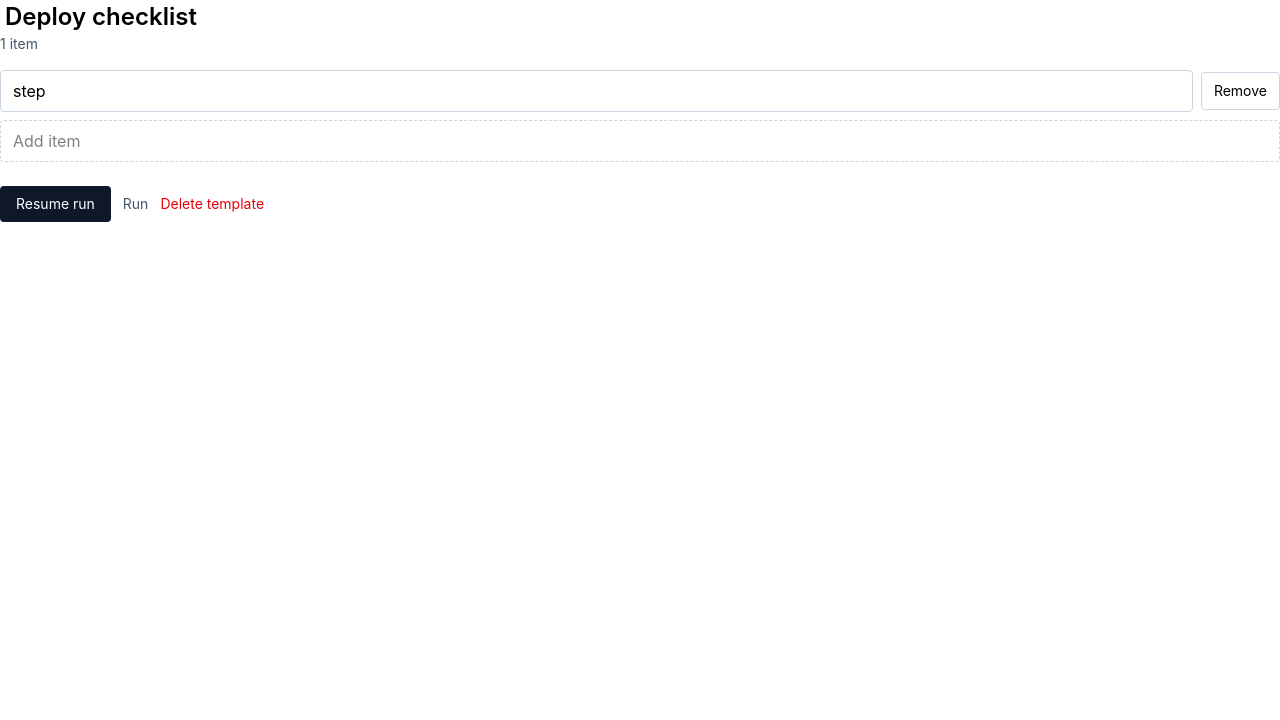
Test: /templates/[id] page › clicking Run with existing run opens replace modal
Click the button "Run": coordinates (136, 204) [123,194,148,214]
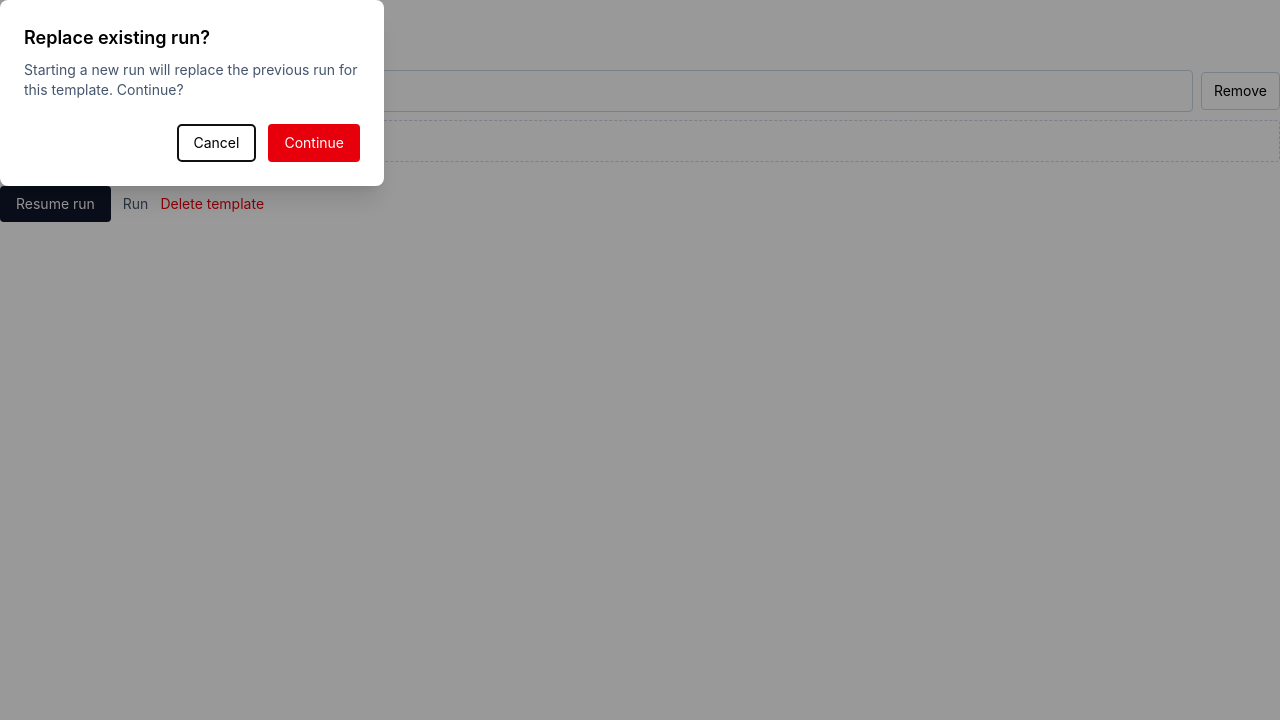
Expected: the heading "Replace existing run?" is shown, [24,27,210,48]
